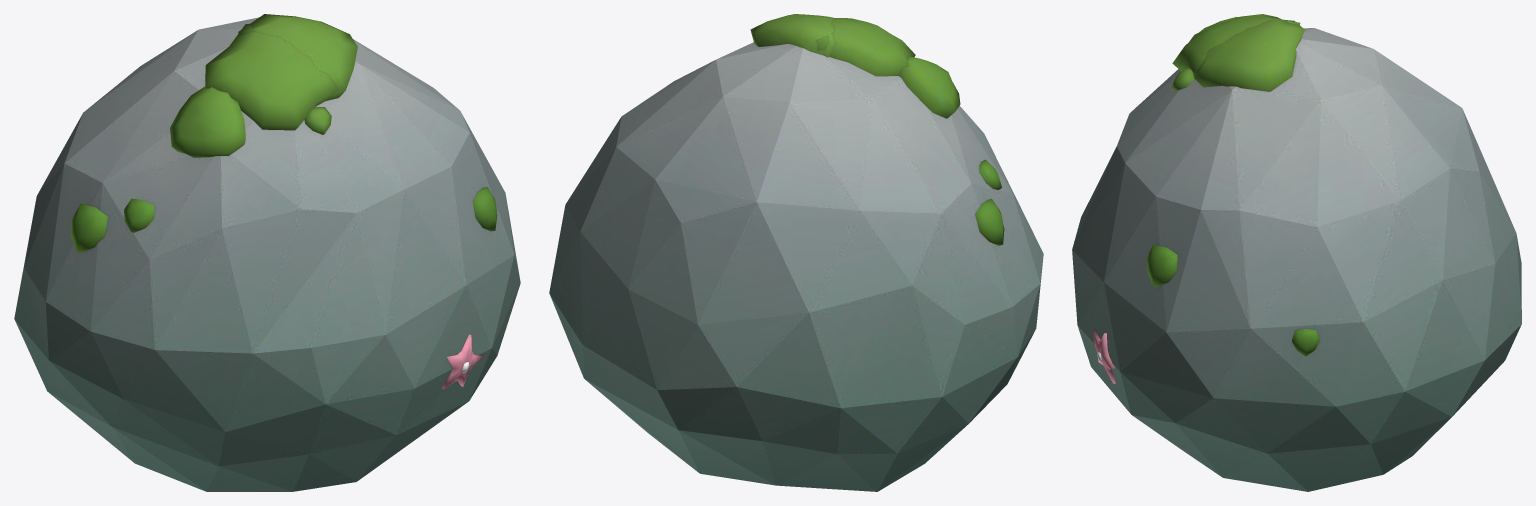
Rendered from rock_grey_3_mid.glb.
3 renders of one model, left to right at view 1: azimuth 30°, elevation 25°; view 2: azimuth 150°, elevation 25°; view 3: azimuth 270°, elevation 25°, orthographic. The views are drawn at different scales.
Parts seen in each view (by area): view 1: rock_grey_3; view 2: rock_grey_3; view 3: rock_grey_3.
Boxes of the visible parts, x1,y1,x2,y2 form: rock_grey_3: (14, 14, 520, 491); rock_grey_3: (549, 14, 1043, 491); rock_grey_3: (1072, 14, 1521, 491).
Size of the model in its own units: 0.6337 by 0.6128 by 0.5823.
1 material, 1 textured.
